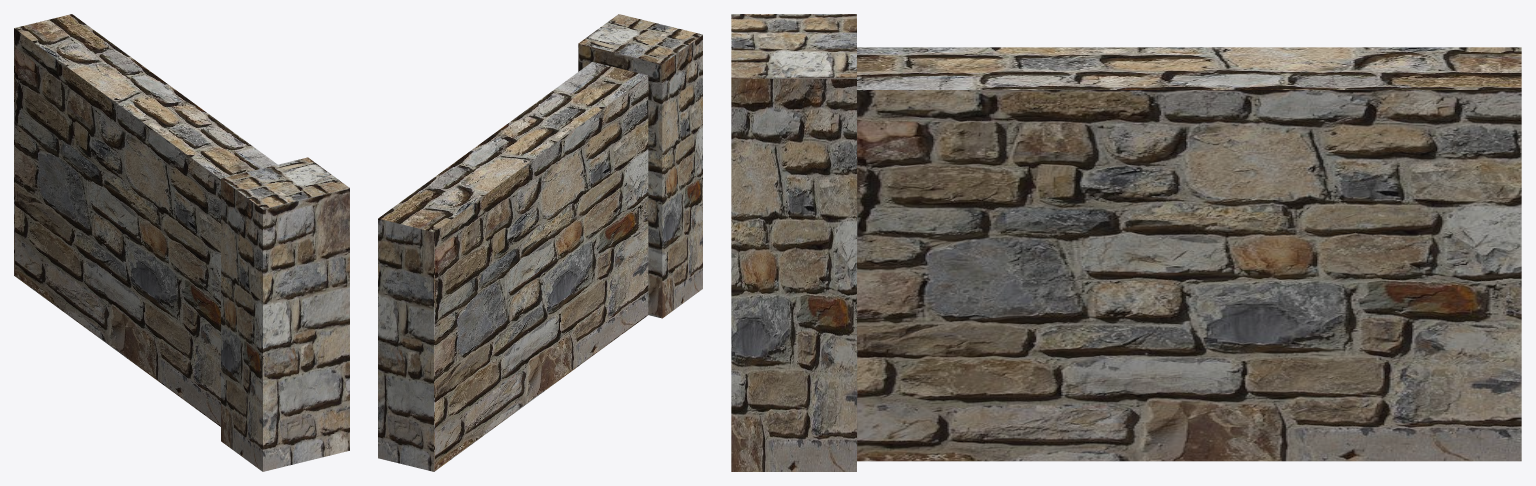
The model's file is stone wall.fbx.
3 renders of one model, left to right at view 1: azimuth 30°, elevation 25°; view 2: azimuth 150°, elevation 25°; view 3: azimuth 270°, elevation 25°, orthographic. The views are drawn at different scales.
Visible parts, largest first — view 1: Cube; view 2: Cube; view 3: Cube.
Part boxes in pixels (x1,y1,x2,y2): Cube: (14,14,349,471); Cube: (378,14,702,471); Cube: (731,14,1521,471).
Size of the model in its own units: 300 by 866 by 1572.
